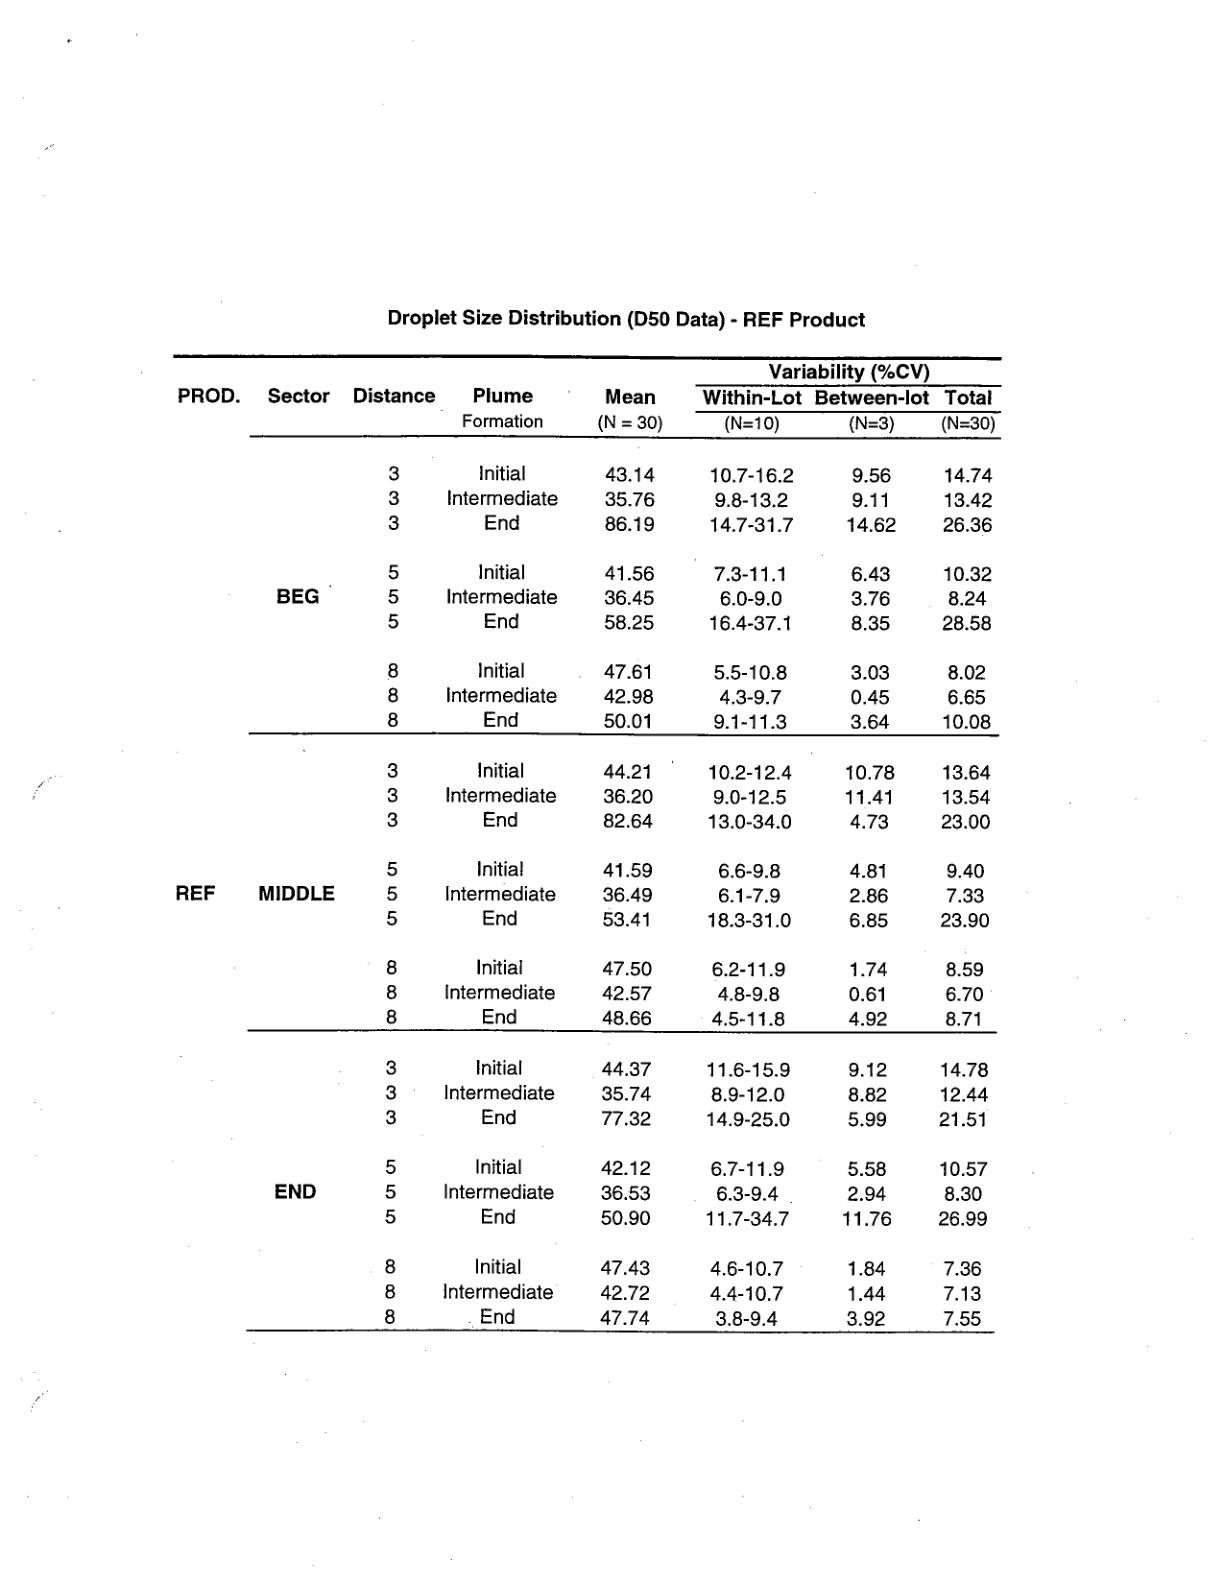partial_lined_merged_cells: (168, 348, 1007, 1338)
